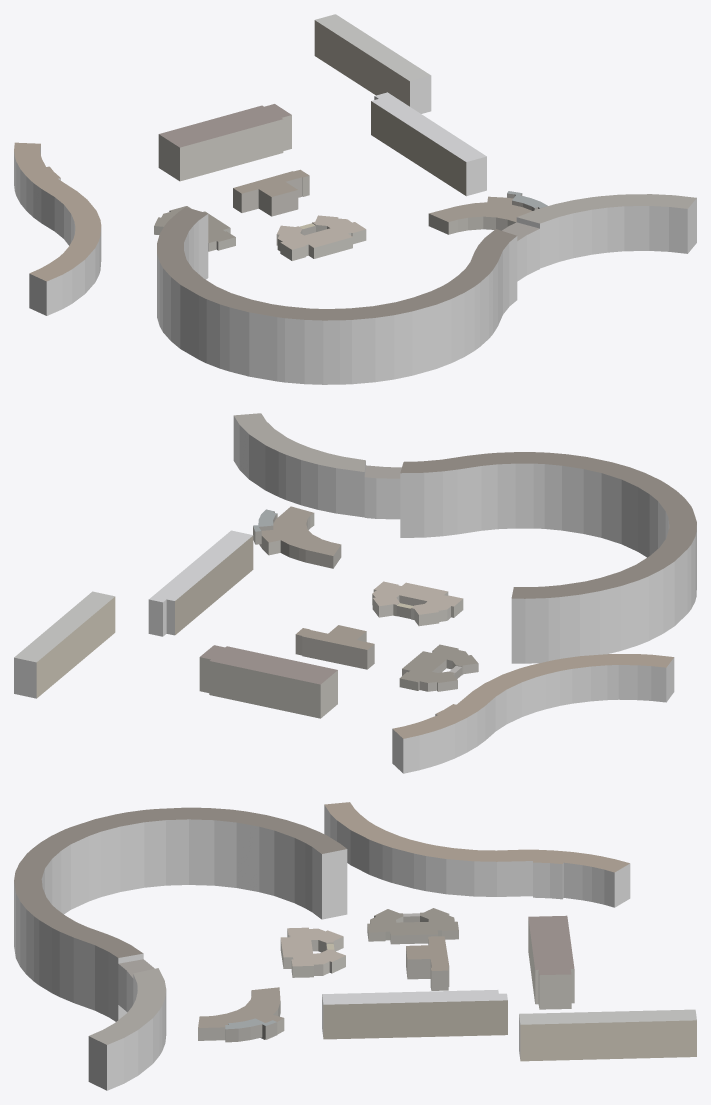
3 views of the same model, one above another, from view 1: azimuth 30°, elevation 25°; view 2: azimuth 150°, elevation 25°; view 3: azimuth 270°, elevation 25° (orthographic).
Parts seen in each view (by area): view 1: tuile; view 2: tuile; view 3: tuile.
Boxes of the visible parts, x1,y1,x2,y2 form: tuile: (14,14,696,384); tuile: (14,413,696,773); tuile: (14,802,696,1090).
Bounding box in the file's own units: 279 × 31.28 × 296.
